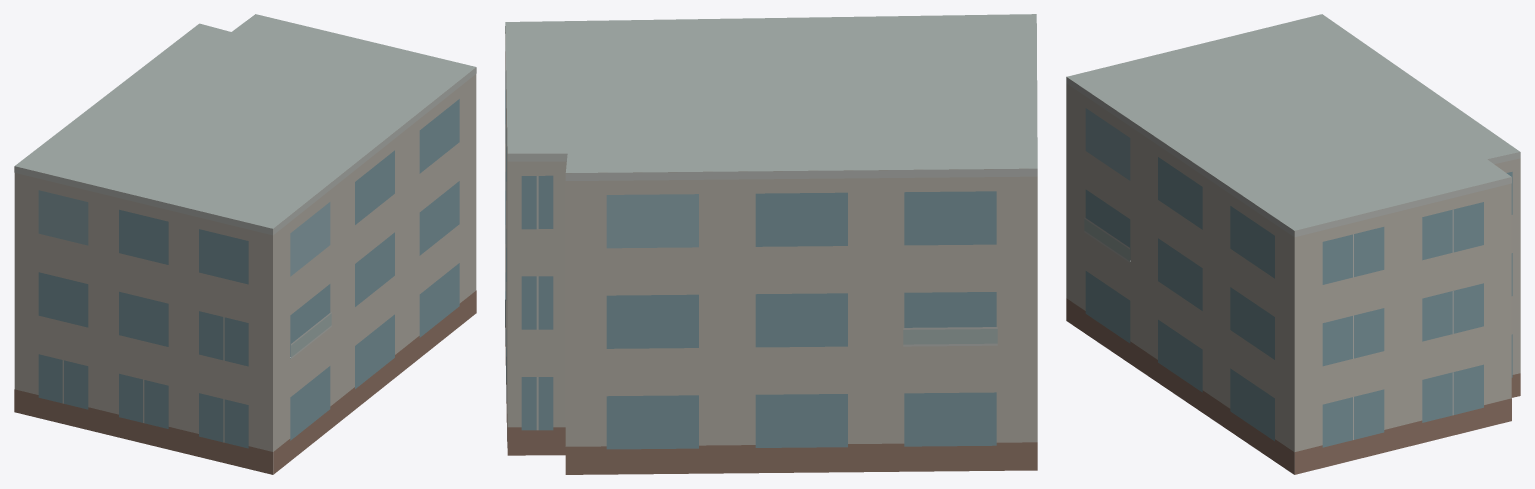
Rendered from survey-upis-32813282.glb.
3 views of the same model, side by side, from view 1: azimuth 30°, elevation 25°; view 2: azimuth 150°, elevation 25°; view 3: azimuth 270°, elevation 25° (orthographic). The views are drawn at different scales.
Visible parts, largest first — view 1: survey-upis-32813282.tmp; view 2: survey-upis-32813282.tmp; view 3: survey-upis-32813282.tmp.
Boxes of the visible parts, bbox=[...] form: survey-upis-32813282.tmp: bbox=[14, 14, 476, 474]; survey-upis-32813282.tmp: bbox=[505, 14, 1037, 474]; survey-upis-32813282.tmp: bbox=[1066, 14, 1520, 474].
Bounding box in the file's own units: 17.45 × 9.15 × 15.44.
